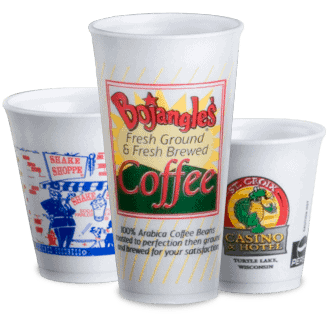Nonrec_Plastic: (84, 10, 246, 310), (1, 86, 127, 291), (231, 106, 330, 302)
